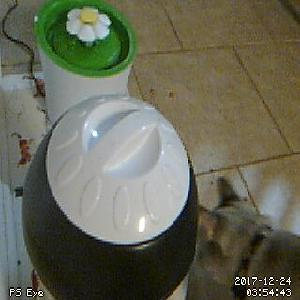cat: (194, 175, 300, 300)
fountain: (33, 1, 137, 79)
